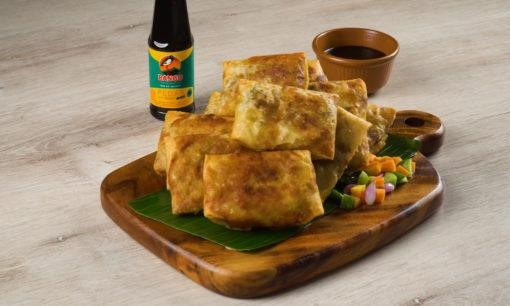martabak: (152, 50, 397, 230)
